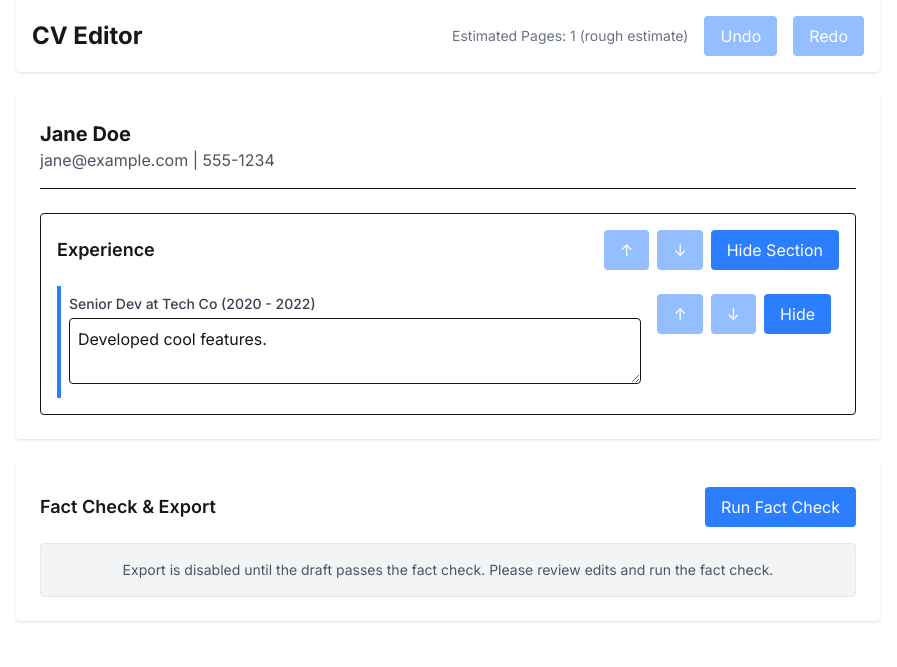
Test case: CvEditor Component › updates text and shows unverified badge
Step 1. Replace the text in the text box showing "Developed cool features." with "Developed amazing features." → (355, 351), box [69, 318, 641, 384]
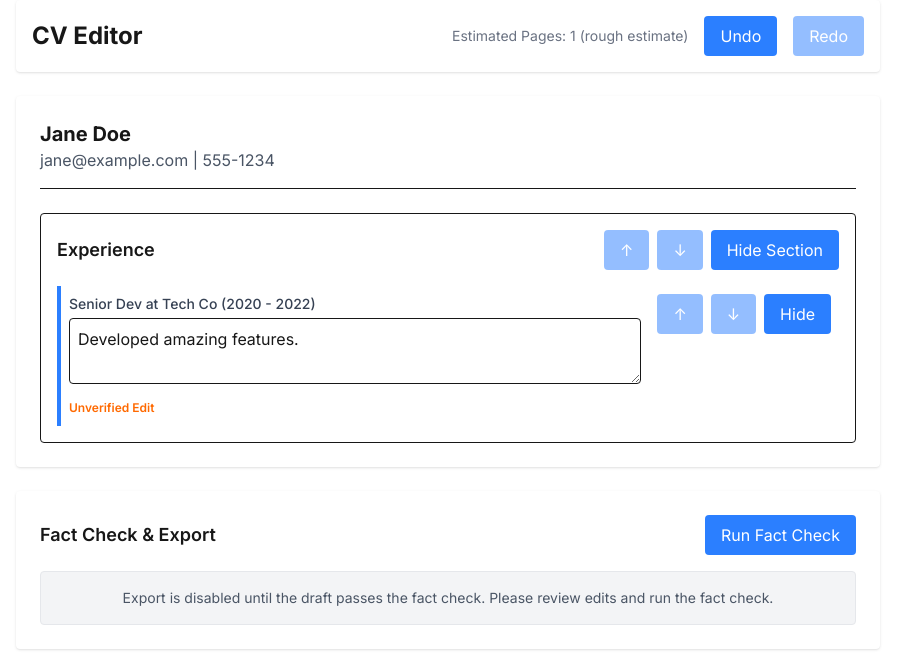
Expected: the text "Unverified Edit" is shown, [69, 400, 154, 415]
